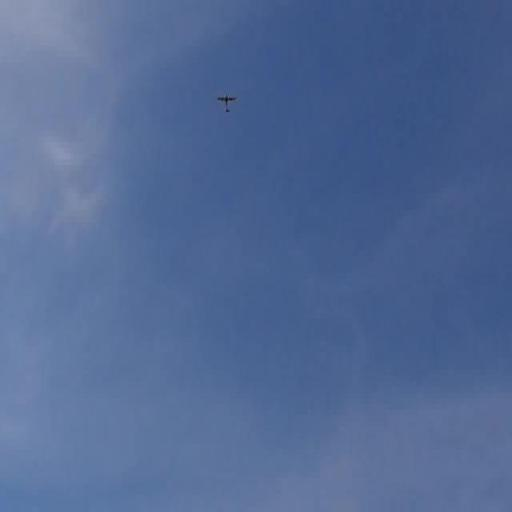uav: (214, 85, 240, 120)
